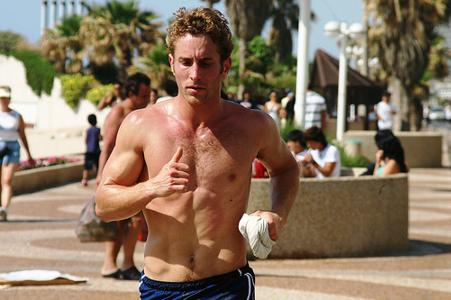person: (94, 7, 301, 299)
